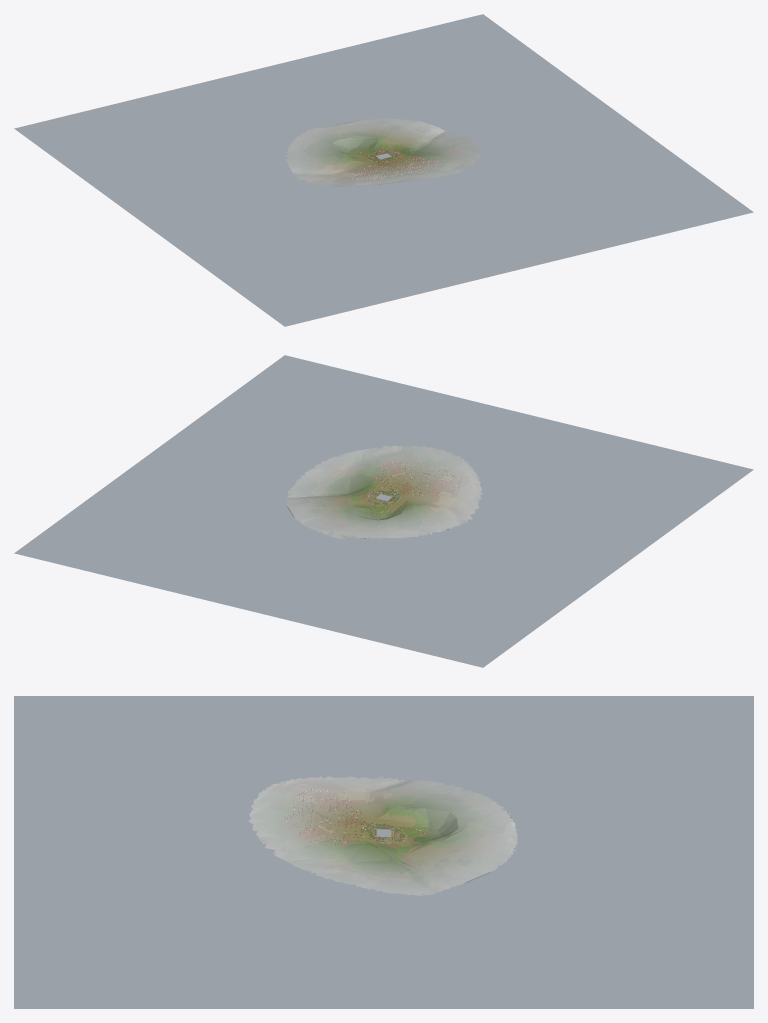
File: arka-plan.glb
The picture shows the model from 3 angles, top to bottom: view 1: azimuth 30°, elevation 25°; view 2: azimuth 150°, elevation 25°; view 3: azimuth 270°, elevation 25°; orthographic projection. The views are drawn at different scales.
Parts seen in each view (by area): view 1: zemin, yapi; view 2: zemin, yapi; view 3: zemin, yapi.
Boxes of the visible parts, x1,y1,x2,y2 form: zemin: (14, 14, 753, 326); yapi: (350, 150, 437, 180); zemin: (14, 355, 753, 667); yapi: (369, 458, 459, 516); zemin: (14, 696, 753, 1008); yapi: (281, 788, 430, 845).
Bounding box in the file's own units: 5000 × 295 × 5000.
